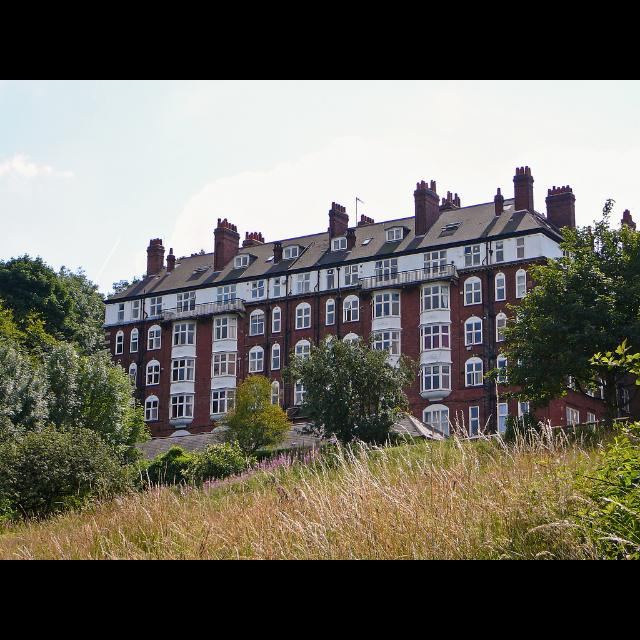Flower: (183, 446, 323, 490)
